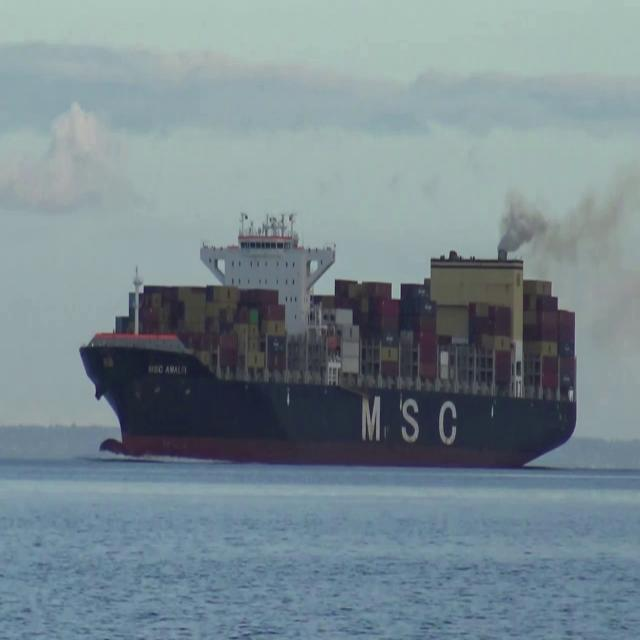OCR: (354, 393, 460, 452), (142, 355, 192, 380)
